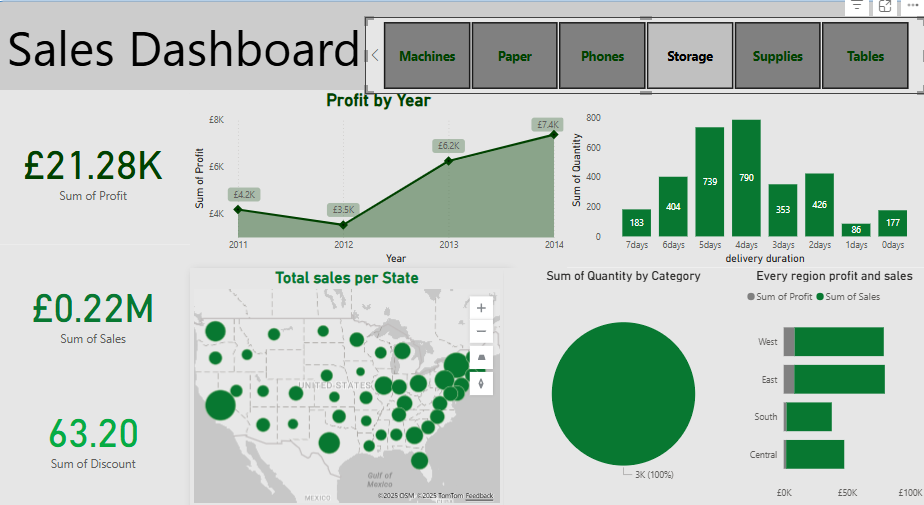

The dashboard page shown, as its layout file describes it:
{"tool":"powerbi","page":{"name":"Page 1","canvas":[1280,720],"ordinal":0},"visuals":[{"type":"shape","title":"    ","box":[0,0,1280,152.9],"z":0},{"type":"card","fields":{"Values":["Sum(Data.Profit)"]},"box":[0,147.3,267,213.3],"z":1000},{"type":"card","fields":{"Values":["Sum(Data.Discount)"]},"box":[0,527.1,267,192.7],"z":2000},{"type":"card","fields":{"Values":["Sum(Data.Sales)"]},"box":[0,360.6,267,181.7],"z":3000},{"type":"areaChart","title":"Profit by Year","fields":{"Category":["Data.Year"],"Y":["Sum(Data.Profit)"]},"box":[267,147.3,518.9,245],"z":4000},{"type":"azureMap","title":"Total sales per State","fields":{"Size":["Sum(Data.Sales)"],"Category":["Data.State"]},"box":[267,392.3,432.2,327.6],"z":5000},{"type":"pieChart","fields":{"Category":["Data.Category"],"Y":["Sum(Data.Quantity)"]},"box":[699.2,392.3,328.9,327.6],"z":6000},{"type":"slicer","fields":{"Values":["Data.Sub-Category"]},"box":[507.9,46.8,772.1,106],"z":7000},{"type":"clusteredColumnChart","fields":{"Category":["Data.delivery duration"],"Y":["Sum(Data.Quantity)"]},"box":[786,153,494,239],"z":8000},{"type":"barChart","title":"Every region profit and sales ","fields":{"Category":["Data.Region"],"Y":["Sum(Data.Profit)","Sum(Data.Sales)"]},"box":[1028,392,252,328],"z":9000}]}

Visuals, with their boxes on the page's 1280x720 design canvas (x1, y1, x2, y2). These are canvas units, not pixel positions in the 924x505 screenshot, which may show the page scaled, cropped or inside an application window:
"    " shape: (0,0,1280,153)
card - Sum(Data.Profit): (0,147,267,361)
card - Sum(Data.Discount): (0,527,267,720)
card - Sum(Data.Sales): (0,361,267,542)
"Profit by Year" areaChart: (267,147,786,392)
"Total sales per State" azureMap: (267,392,699,720)
pieChart - Data.Category x Sum(Data.Quantity): (699,392,1028,720)
slicer - Data.Sub-Category: (508,47,1280,153)
clusteredColumnChart - Data.delivery duration x Sum(Data.Quantity): (786,153,1280,392)
"Every region profit and sales " barChart: (1028,392,1280,720)
